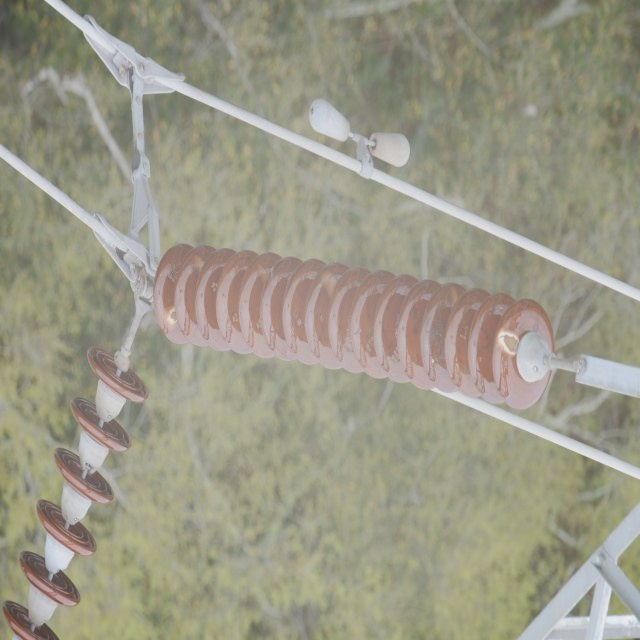insulator: (152, 243, 554, 410), (2, 344, 148, 640)
